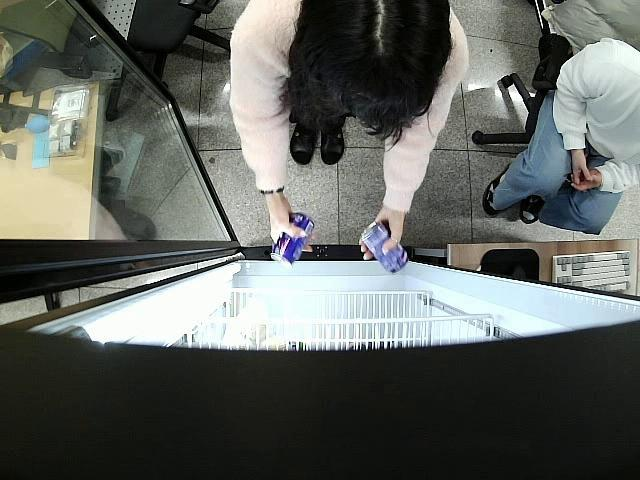14_welchsGrape: (361, 221, 408, 274), (270, 214, 315, 268)
